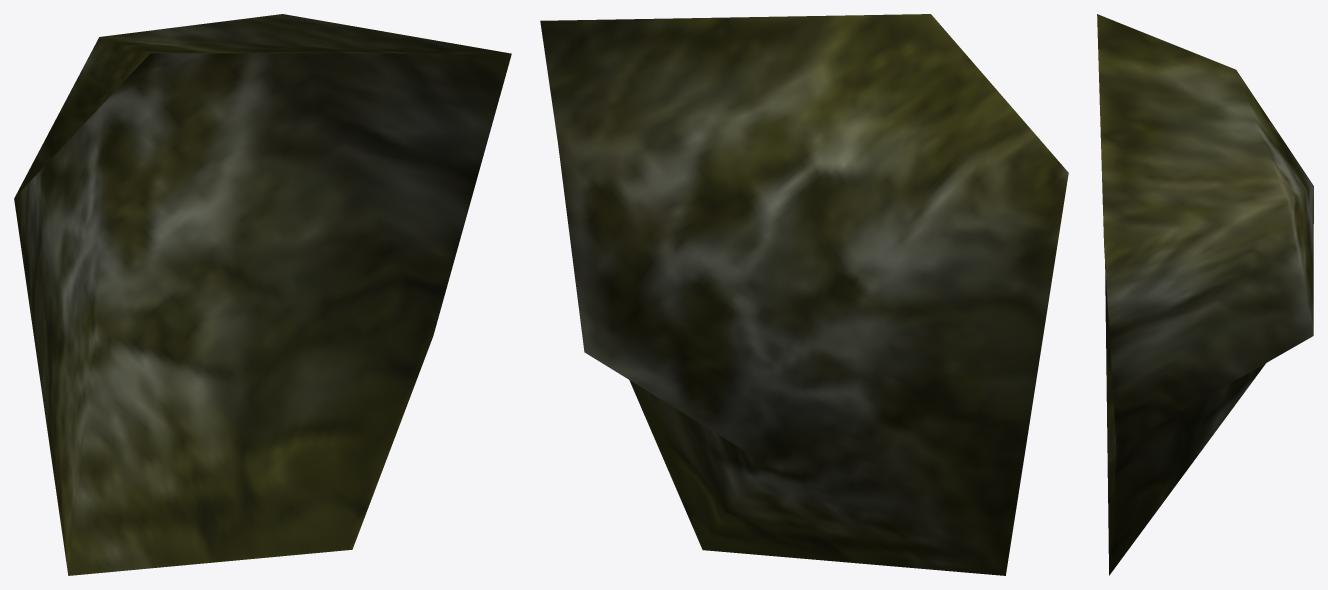
The model's file is MEP_GroundRocks_01_g.fbx.
The picture shows the model from 3 angles, left to right: view 1: azimuth 30°, elevation 25°; view 2: azimuth 150°, elevation 25°; view 3: azimuth 270°, elevation 25°; orthographic projection. The views are drawn at different scales.
Visible parts, largest first — view 1: MEP_GroundRock_01_g; view 2: MEP_GroundRock_01_g; view 3: MEP_GroundRock_01_g.
Boxes of the visible parts, x1,y1,x2,y2 form: MEP_GroundRock_01_g: (14, 14, 511, 575); MEP_GroundRock_01_g: (540, 14, 1068, 575); MEP_GroundRock_01_g: (1097, 14, 1313, 575).
Size of the model in its own units: 1.12 by 1.19 by 0.4919.
